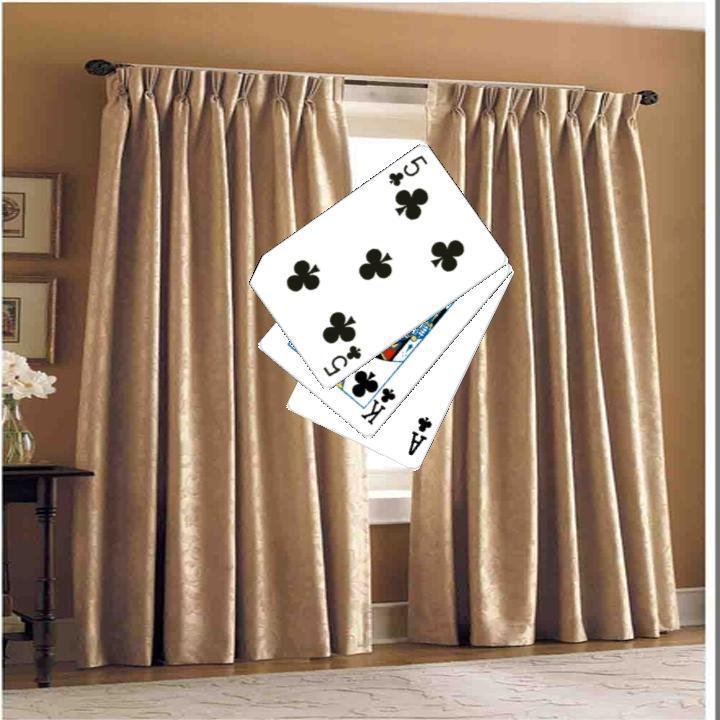5: (318, 341, 363, 379), (384, 151, 429, 189)
A: (403, 413, 434, 458)
K: (356, 375, 398, 427)
